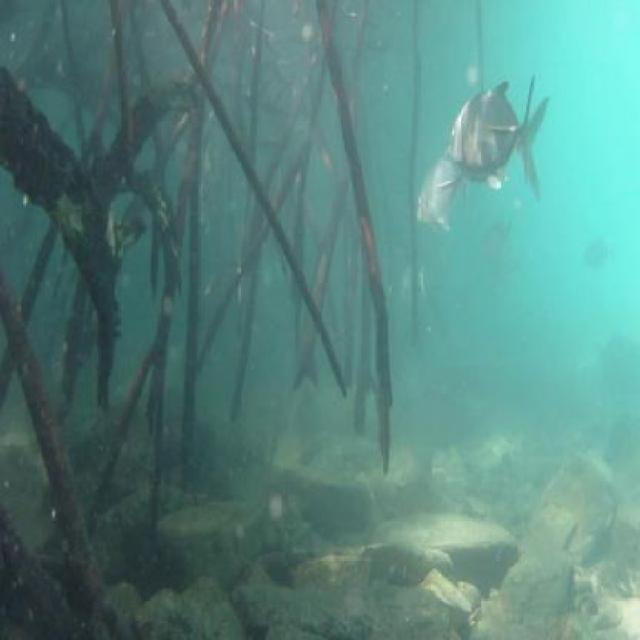Caranx_sexfasciatus_juvenile: (448, 70, 549, 202), (464, 86, 556, 209), (413, 140, 476, 243), (480, 213, 523, 262)
